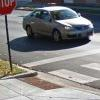Crosswalk: (21, 55, 100, 88)
